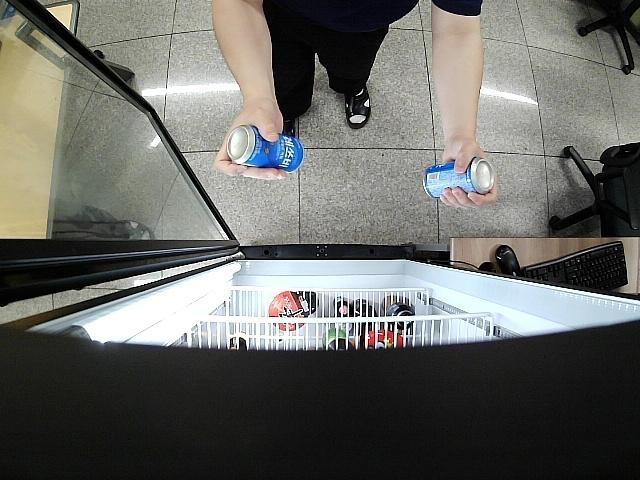15_letsbe: (227, 124, 304, 173), (422, 156, 496, 198)
